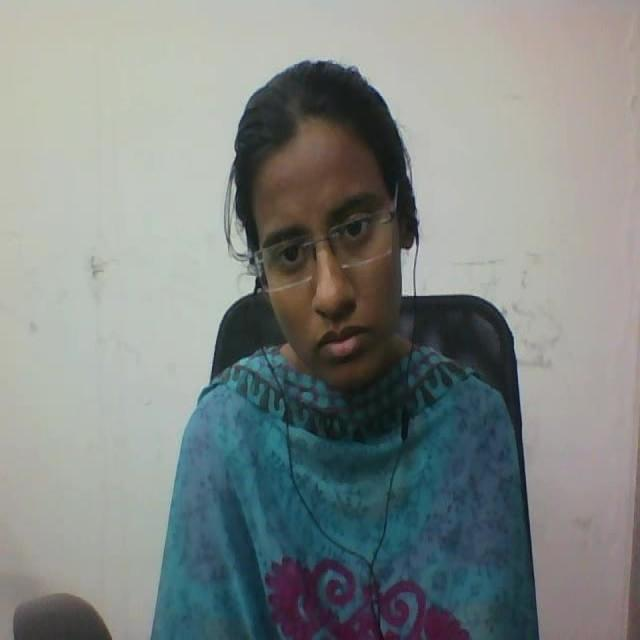Engaged: (212, 41, 459, 424)
